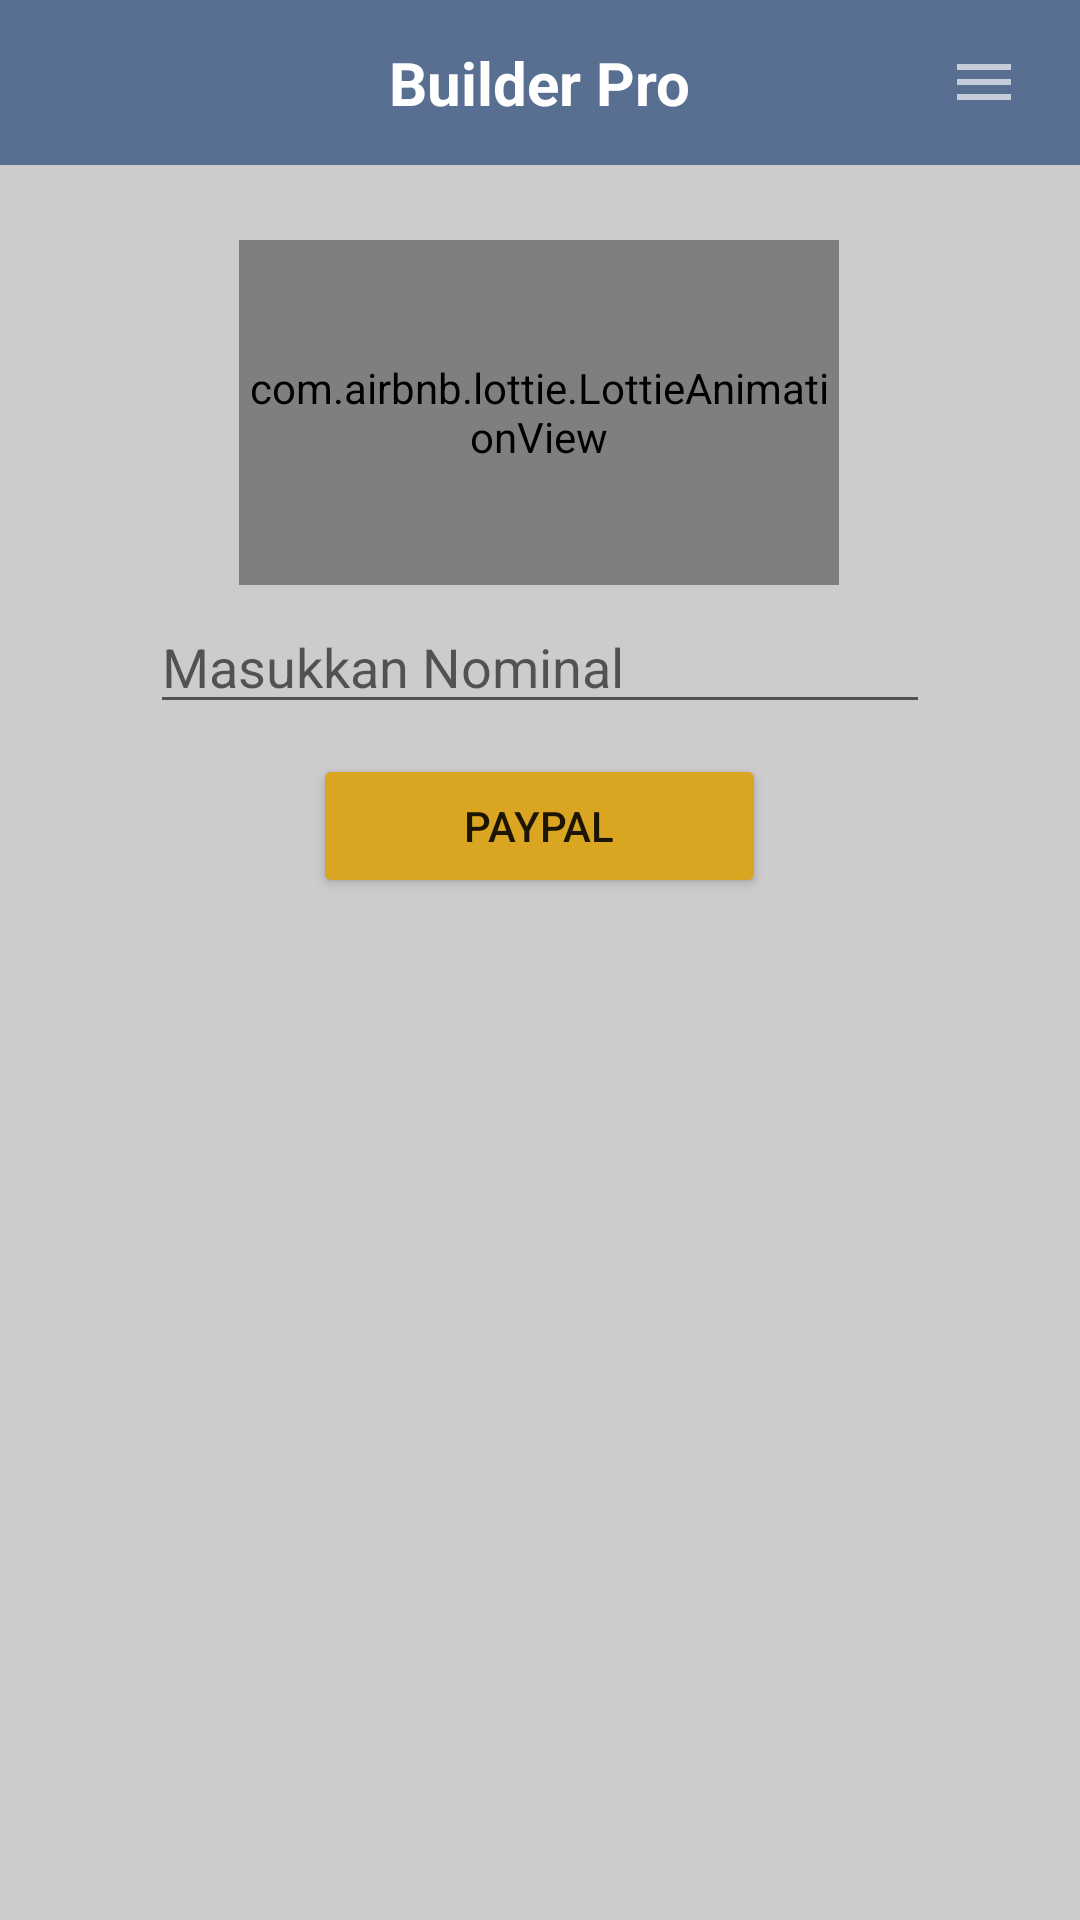

Screen size 1080 x 1920. Icon name, then its center in pixels as point (x, y):
menu: point (984, 82)
